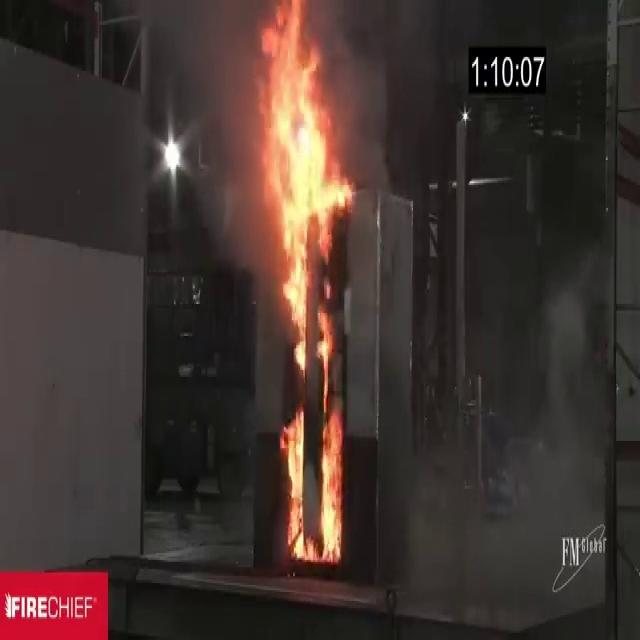fire: (238, 0, 357, 567)
